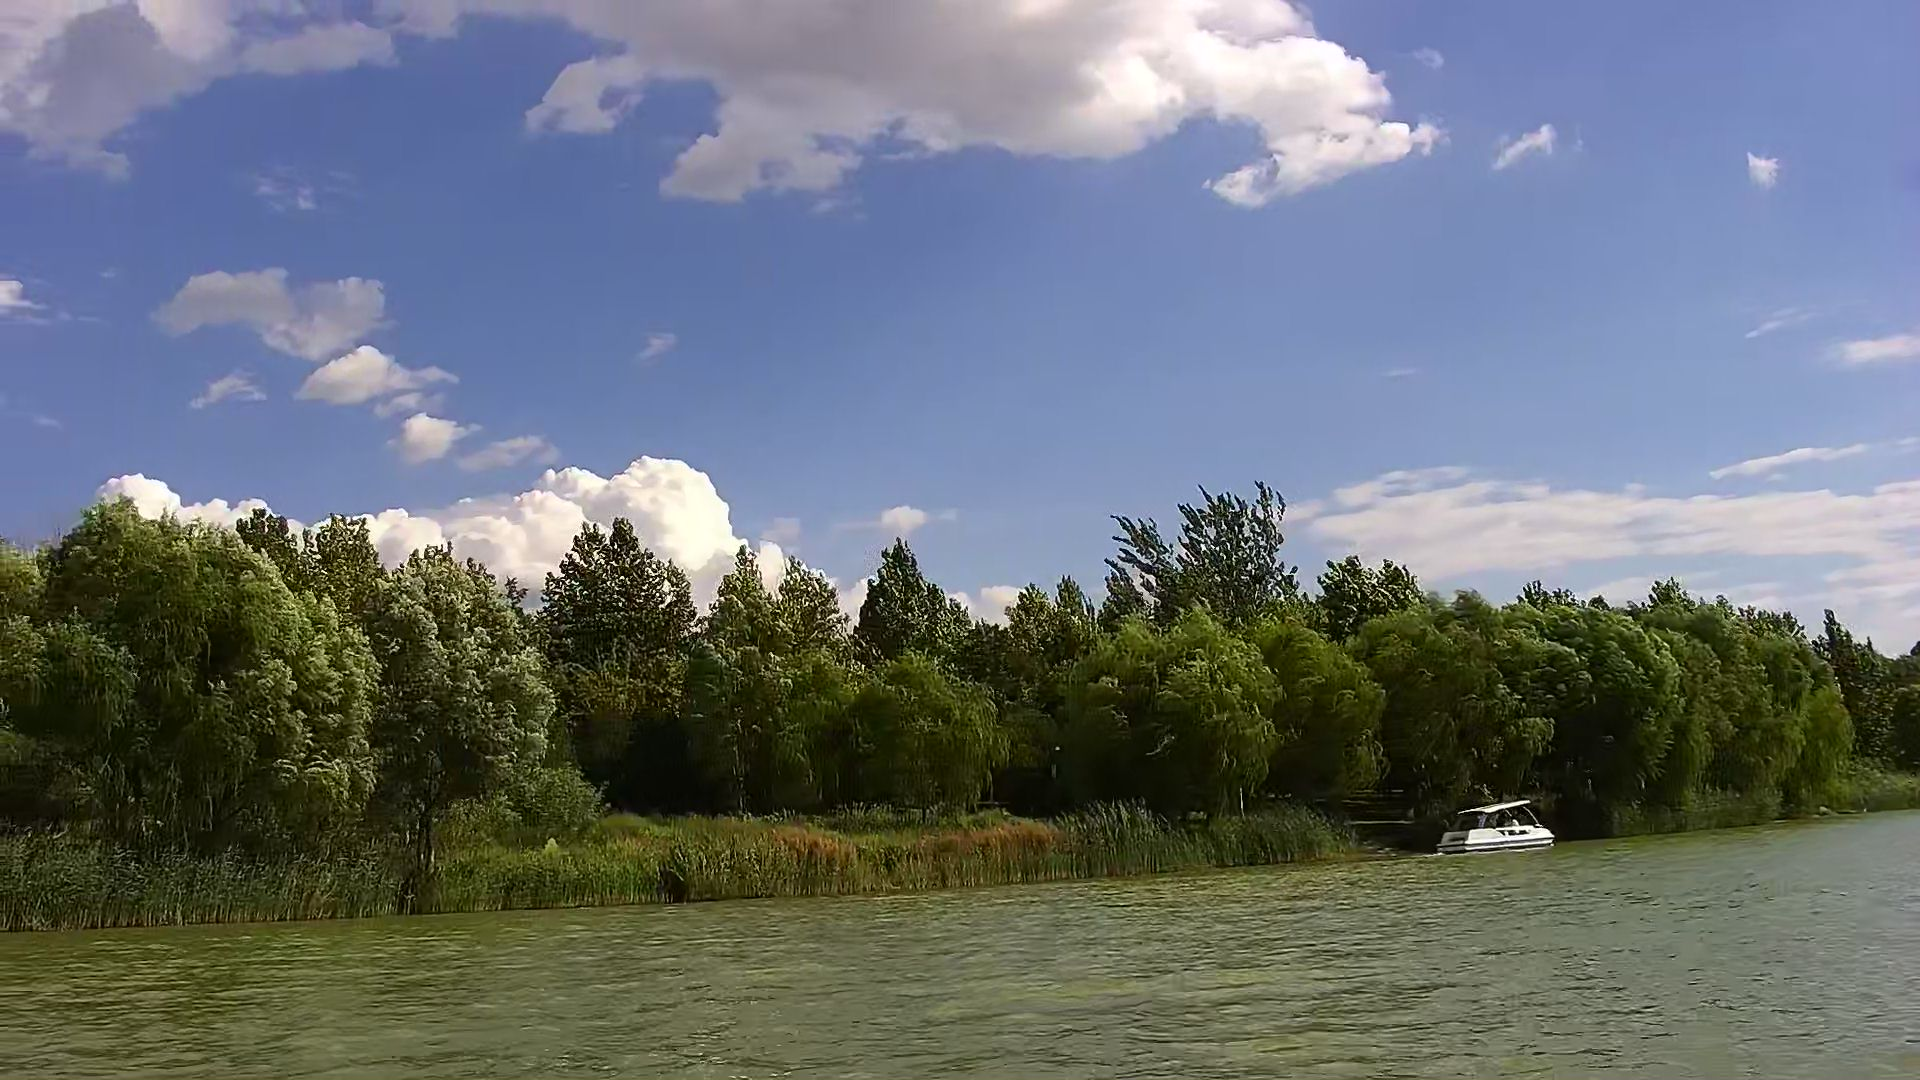boat: (1437, 798, 1561, 853)
